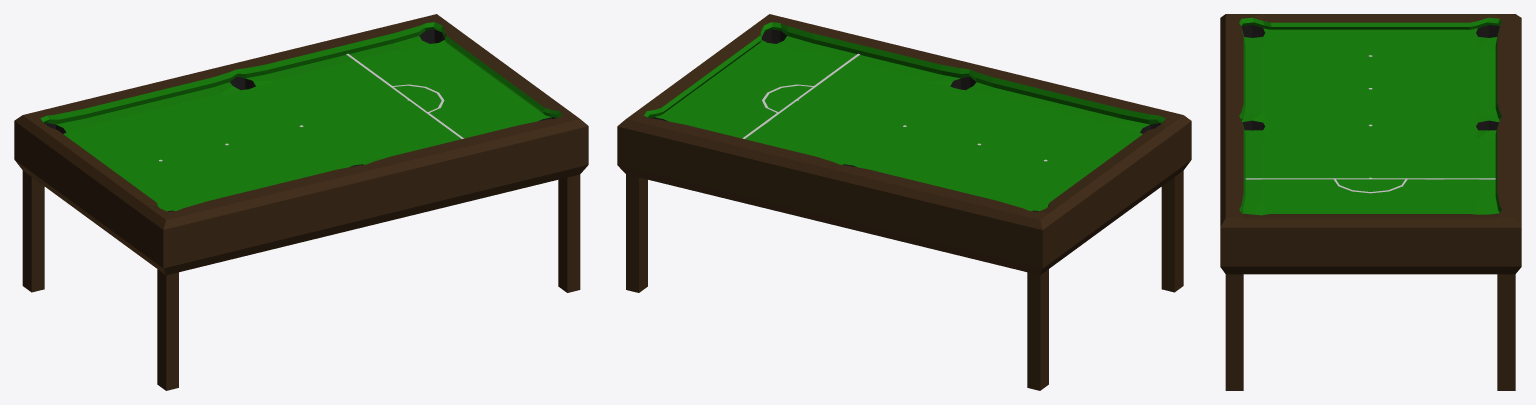
Rendered from Pool Table.fbx.
3 renders of one model, left to right at view 1: azimuth 30°, elevation 25°; view 2: azimuth 150°, elevation 25°; view 3: azimuth 270°, elevation 25°, orthographic.
Visible parts, largest first — view 1: Pool Table; view 2: Pool Table; view 3: Pool Table.
Part boxes in pixels (left/top/right/bottom): Pool Table: left=14, top=14, right=588, bottom=390; Pool Table: left=617, top=14, right=1191, bottom=390; Pool Table: left=1220, top=14, right=1521, bottom=390.
Size of the model in its own units: 4623 by 1775 by 2808.
